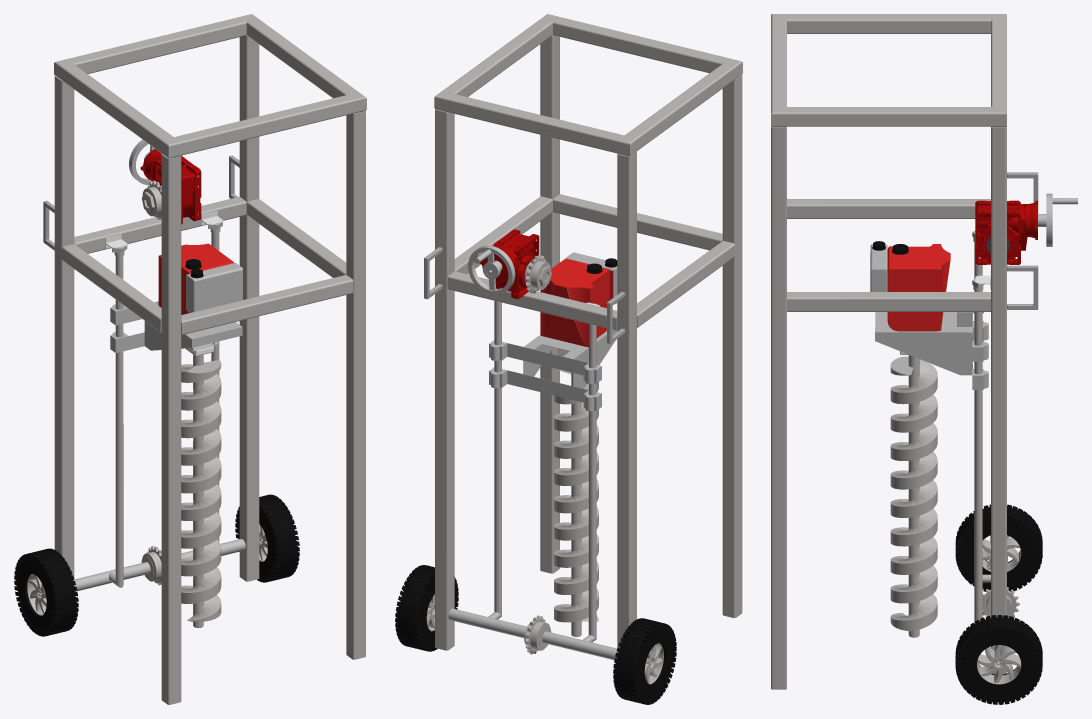
Rendered from Ensamble Total Definitivo.glb.
The picture shows the model from 3 angles, left to right: view 1: azimuth 30°, elevation 25°; view 2: azimuth 150°, elevation 25°; view 3: azimuth 270°, elevation 25°; orthographic projection. The views are drawn at different scales.
Visible parts, largest first — view 1: Solid1 (×18), Solid2 (×2), object 37; view 2: Solid1 (×25), Solid2 (×2), object 37; view 3: Solid1 (×17), Solid2 (×2), object 37, object 36.
Boxes of the visible parts, <box> form: Solid1 (×18): <box>27,14,366,704</box>; Solid2 (×2): <box>14,494,299,636</box>; object 37: <box>153,155,201,224</box>; Solid1 (×25): <box>434,14,742,684</box>; Solid2 (×2): <box>395,565,676,704</box>; object 37: <box>493,229,539,299</box>; Solid1 (×17): <box>771,14,1077,689</box>; Solid2 (×2): <box>955,504,1042,704</box>; object 37: <box>975,200,1023,264</box>; object 36: <box>977,224,1018,262</box>.
Size of the model in its own units: 0.9224 by 2.04 by 0.9765.
